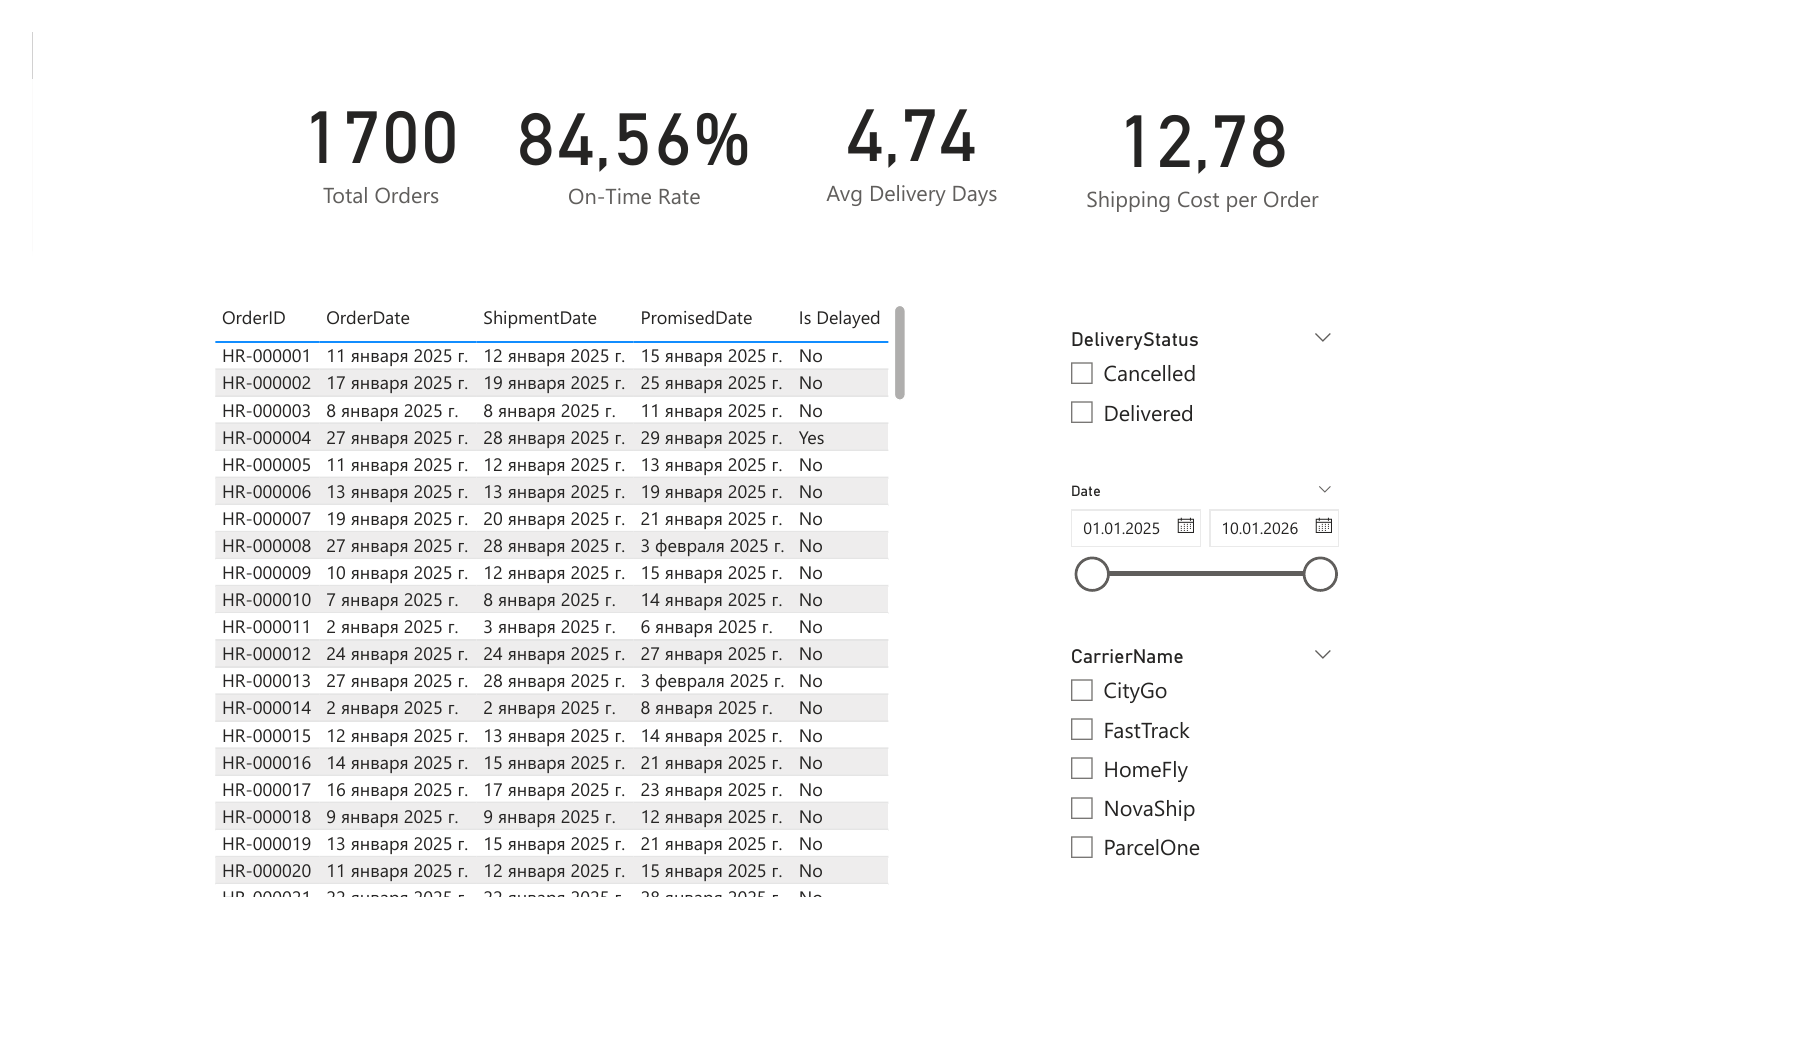

The page's visual inventory and layout, read from the dashboard file:
{"tool":"powerbi","page":{"name":"Order Deep Dive","canvas":[1280,720],"ordinal":2},"visuals":[{"type":"card","fields":{"Values":["Shipments.Total Orders"]},"box":[179,26.3,156.6,110.9],"z":0},{"type":"card","fields":{"Values":["Shipments.On-Time Rate"]},"box":[335.6,26.3,217.9,112.8],"z":1000},{"type":"card","fields":{"Values":["Shipments.Avg Delivery Days"]},"box":[543.7,26.3,211.1,108],"z":2000},{"type":"card","fields":{"Values":["Shipments.Shipping Cost per Order"]},"box":[754.8,26.3,217.9,116.7],"z":3000},{"type":"tableEx","fields":{"Values":["Orders.OrderID","Orders.OrderDate","Shipments.ShipmentDate","Shipments.PromisedDate","Shipments.Is Delayed Column"]},"box":[129.4,196.5,520.4,446.4],"z":4000},{"type":"slicer","fields":{"Values":["Shipments.DeliveryStatus"]},"box":[753.8,214,217.9,91.4],"z":5000},{"type":"slicer","fields":{"Values":["Calendar.Date"]},"box":[753.8,327.8,217.9,98.2],"z":6000},{"type":"slicer","fields":{"Values":["Carriers.CarrierName"]},"box":[753.8,448.4,217.9,176],"z":7000}]}

Visuals, with their boxes in screenshot pixels (x1, y1, x2, y2), scaled from the page's 1280x720 canvas onto the 1799x1040 screenshot:
card - Shipments.Total Orders: (252, 38, 472, 198)
card - Shipments.On-Time Rate: (472, 38, 778, 201)
card - Shipments.Avg Delivery Days: (764, 38, 1061, 194)
card - Shipments.Shipping Cost per Order: (1061, 38, 1367, 207)
tableEx - Orders.OrderID x Orders.OrderDate: (182, 284, 913, 929)
slicer - Shipments.DeliveryStatus: (1059, 309, 1366, 441)
slicer - Calendar.Date: (1059, 473, 1366, 615)
slicer - Carriers.CarrierName: (1059, 648, 1366, 902)
